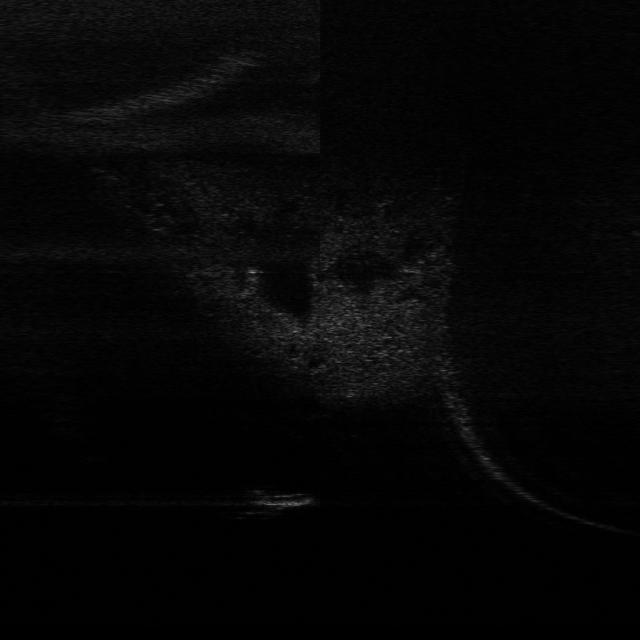cube: (233, 484, 317, 518)
